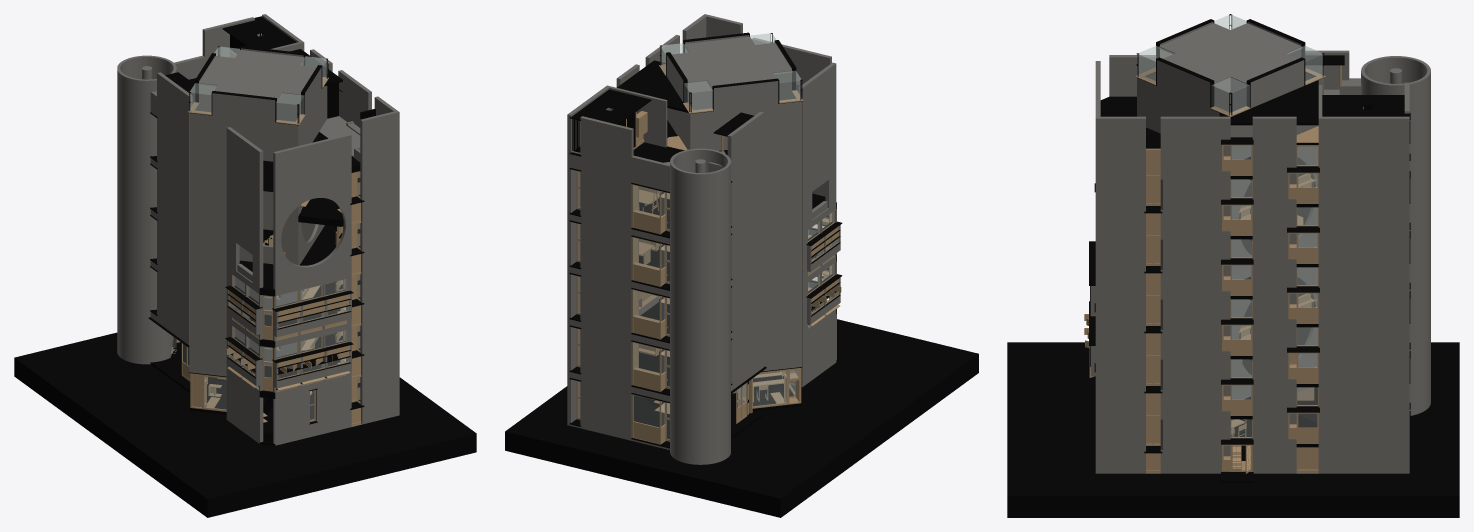
Rendered from sawara-building-web-wood.glb.
3 renders of one model, left to right at view 1: azimuth 30°, elevation 25°; view 2: azimuth 150°, elevation 25°; view 3: azimuth 270°, elevation 25°, orthographic. The views are drawn at different scales.
Visible parts, largest first — view 1: web_03_RC_, web_10___, web_05__, web_04____, web_06__, web_08____, web_07_RC__, web_09____, web_11_RC___; view 2: web_03_RC_, web_10___, web_04____, web_06__, web_05__, web_08____, web_07_RC__, web_09____, web_02_____hide; view 3: web_03_RC_, web_10___, web_06__, web_04____, web_08____, web_07_RC__, web_05__, web_09____, web_02_____hide.
Part boxes in pixels (box(x1,y1,x2,y2)): web_03_RC_: box(117, 14, 399, 445); web_10___: box(14, 35, 476, 517); web_05__: box(150, 33, 360, 445); web_04____: box(182, 46, 359, 419); web_06__: box(176, 50, 361, 425); web_08____: box(148, 16, 364, 424); web_07_RC__: box(198, 50, 360, 161); web_09____: box(176, 51, 356, 422); web_11_RC___: box(319, 116, 360, 156); web_03_RC_: box(567, 14, 840, 464); web_10___: box(505, 112, 978, 517); web_04____: box(579, 33, 837, 439); web_06__: box(576, 64, 839, 444); web_05__: box(572, 32, 836, 439); web_08____: box(569, 89, 842, 448); web_07_RC__: box(664, 36, 792, 164); web_09____: box(571, 113, 841, 441); web_02_____hide: box(617, 60, 688, 112); web_03_RC_: box(1090, 22, 1430, 473); web_10___: box(1007, 106, 1459, 517); web_06__: box(1135, 65, 1363, 472); web_04____: box(1138, 15, 1322, 436); web_08____: box(1089, 55, 1410, 469); web_07_RC__: box(1159, 23, 1302, 85); web_05__: box(1100, 14, 1371, 460); web_09____: box(1084, 177, 1314, 473); web_02_____hide: box(1219, 80, 1318, 125).
Bounding box in the file's own units: 15 × 18.08 × 18.67.
